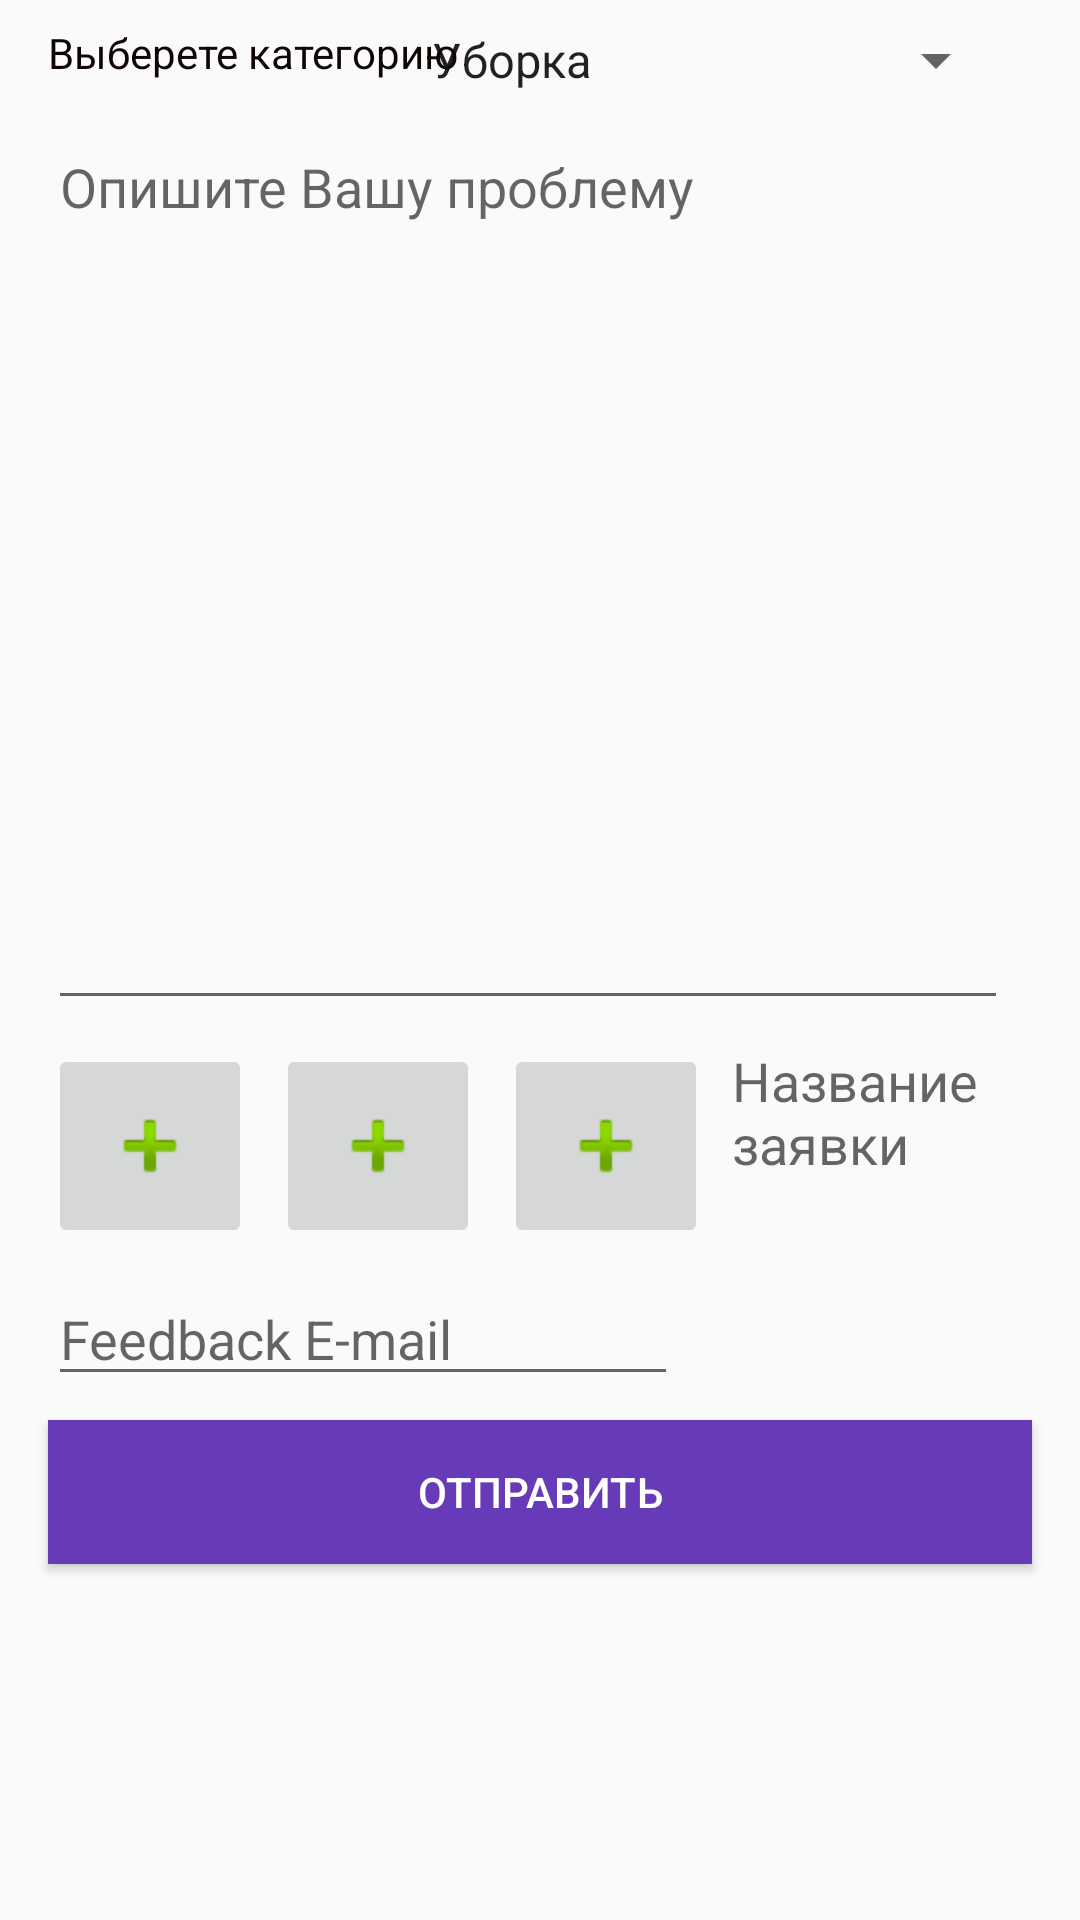

Icon bounding boxes for this 1080 x 1920 phone screenshot, format (x1, y1, x2, y2):
add: (60, 1062, 240, 1230), (288, 1062, 468, 1230), (516, 1062, 696, 1230)
